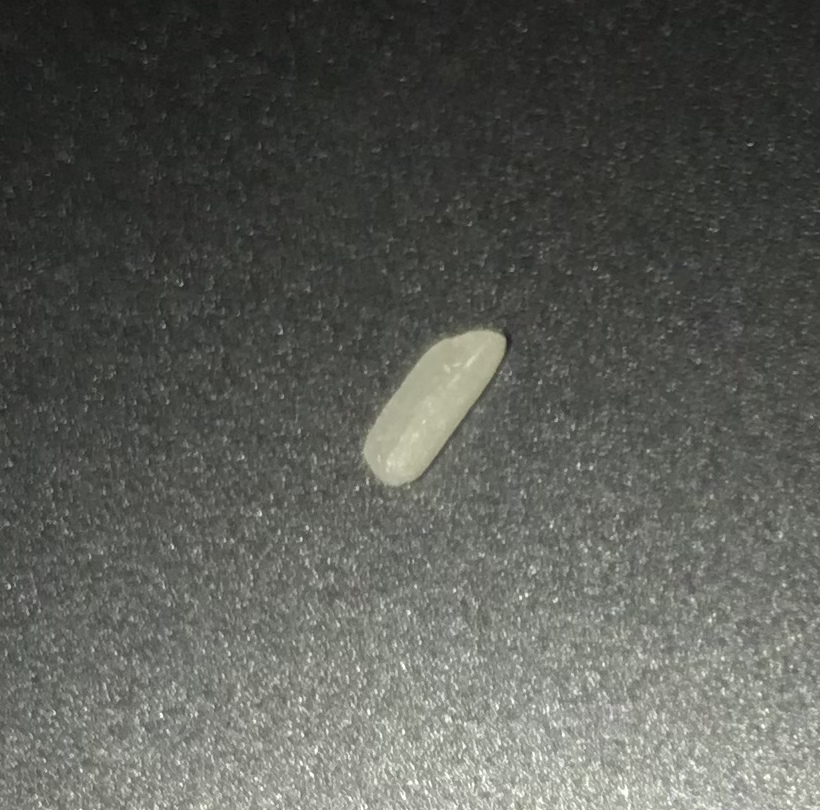Gao Tam Thom: (356, 300, 515, 507)
